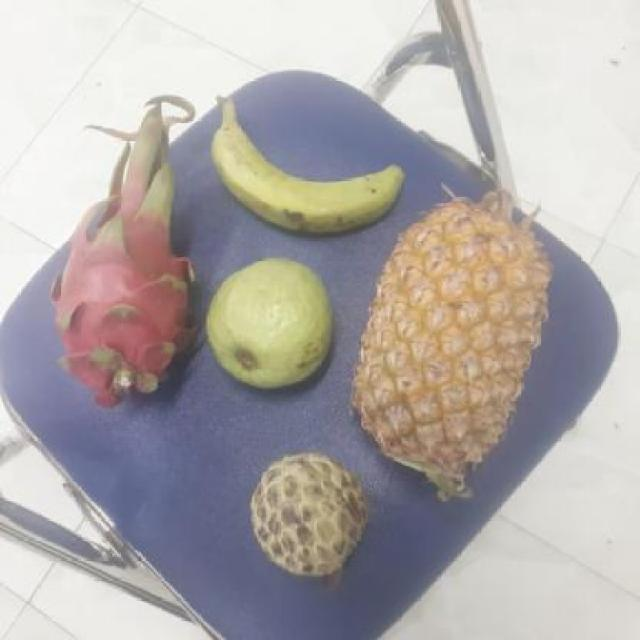banana: (220, 115, 408, 234)
dragon fruit: (56, 188, 206, 400)
guava: (205, 260, 342, 389)
pineapple: (354, 201, 561, 487)
sugar apple: (251, 450, 374, 578)
